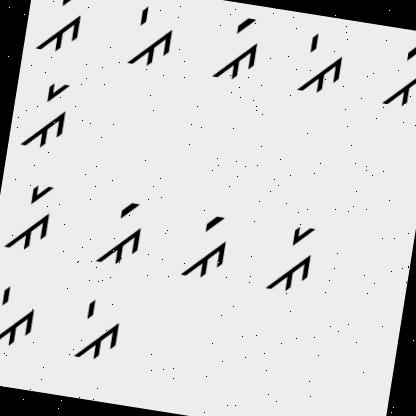kang: (87, 187, 151, 281), (204, 12, 265, 100), (172, 202, 233, 288), (370, 35, 416, 122)
kar: (262, 216, 324, 302), (16, 72, 75, 162), (0, 173, 63, 257), (30, 0, 91, 61)
ke: (117, 0, 188, 81), (283, 23, 349, 105), (70, 290, 129, 367), (0, 279, 48, 357)
